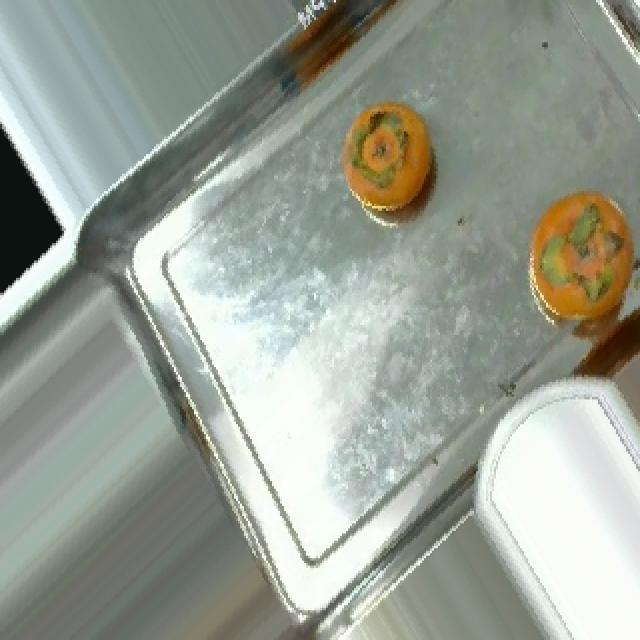Fruit: (514, 171, 640, 350), (324, 84, 458, 248), (0, 106, 86, 328), (552, 283, 640, 481)
